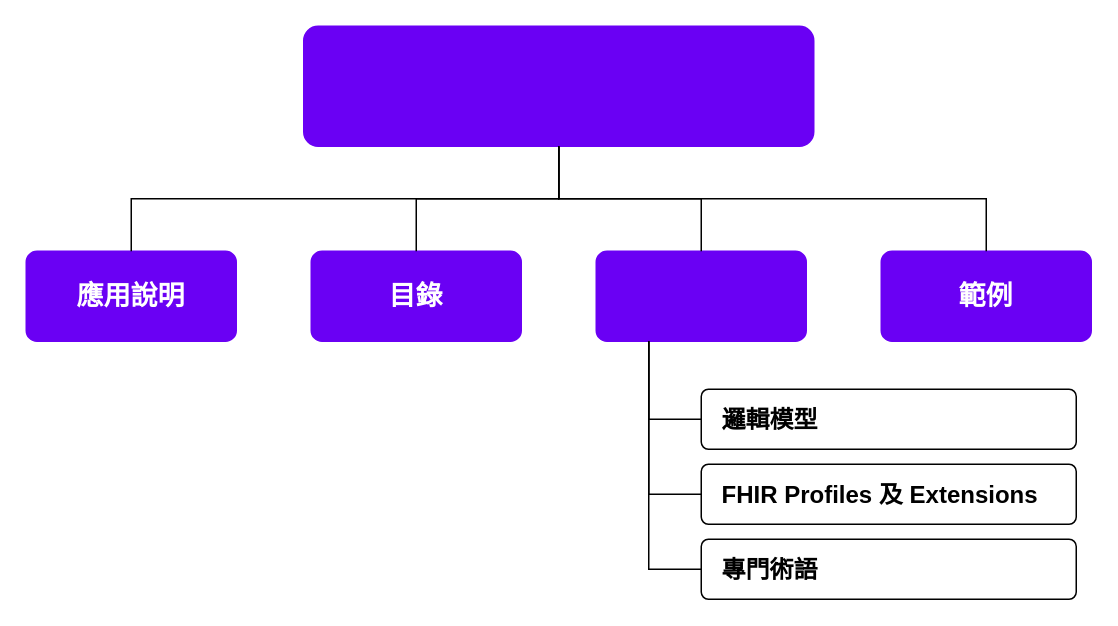
Some shapes in this 1118 by 626 pixel diagram are drawn without their labels. Here are the shapes that lost their labels. From the top down, the centre of each, then its label:
At pixel 558 85: "臺灣榮總腦中風實作指引 (TW VGH Stroke IG)".
At pixel 700 295: "規範文件".
